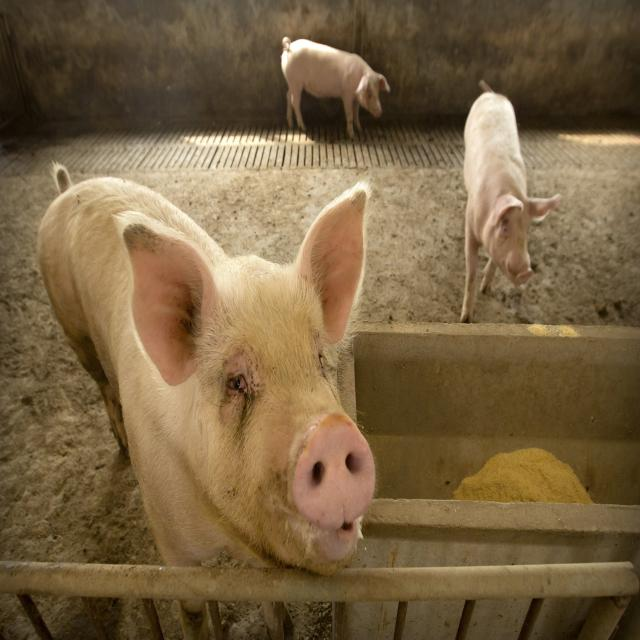Pig: (25, 152, 381, 584), (455, 70, 563, 324), (276, 23, 389, 146)
